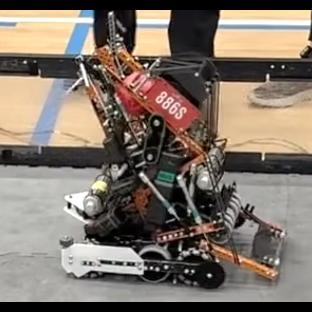Robot: (60, 53, 285, 289)
